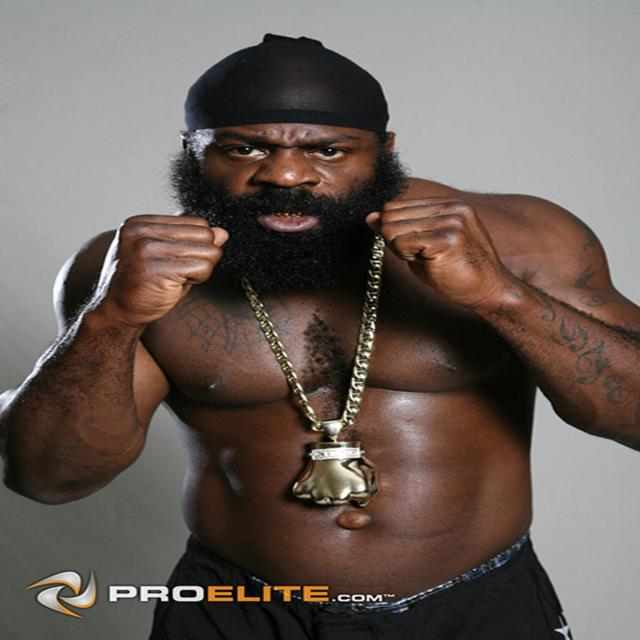Face: (173, 96, 406, 277)
